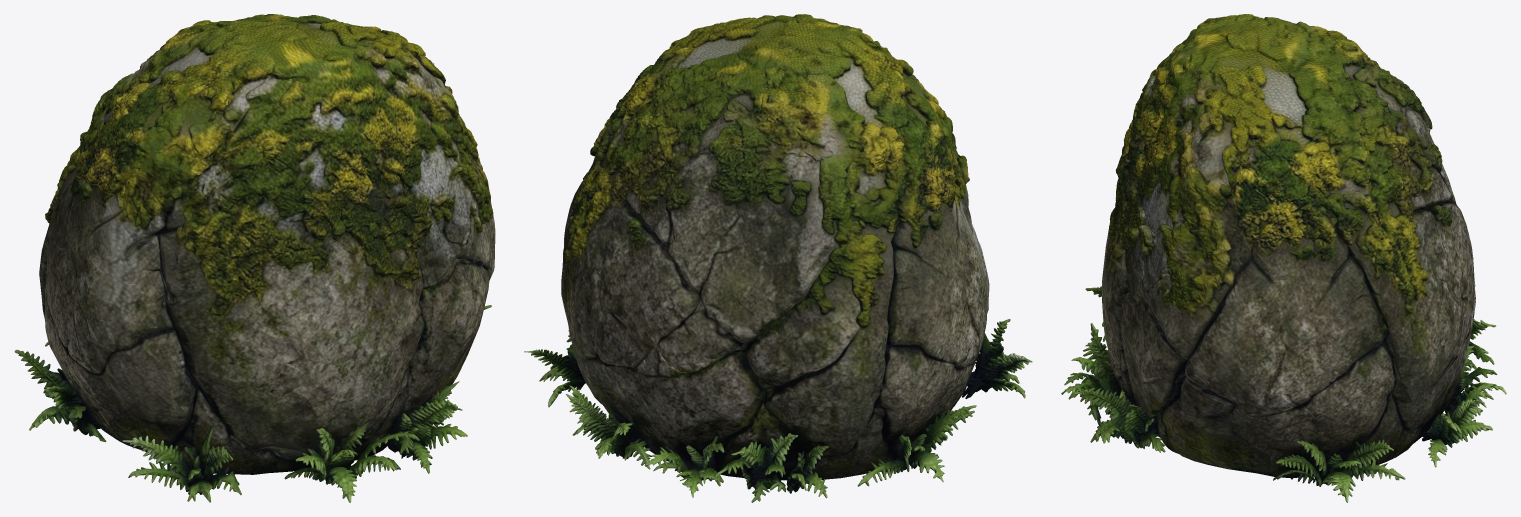
Rendered from rock.glb.
3 views of the same model, side by side, from view 1: azimuth 30°, elevation 25°; view 2: azimuth 150°, elevation 25°; view 3: azimuth 270°, elevation 25° (orthographic). The views are drawn at different scales.
Parts seen in each view (by area): view 1: world; view 2: world; view 3: world.
Part boxes in pixels (x1,y1,x2,y2): world: (14,14,495,502); world: (524,14,1032,502); world: (1061,14,1506,502).
Size of the model in its own units: 0.9988 by 0.8755 by 0.9321.
Materials: 1 (1 with a texture image).
